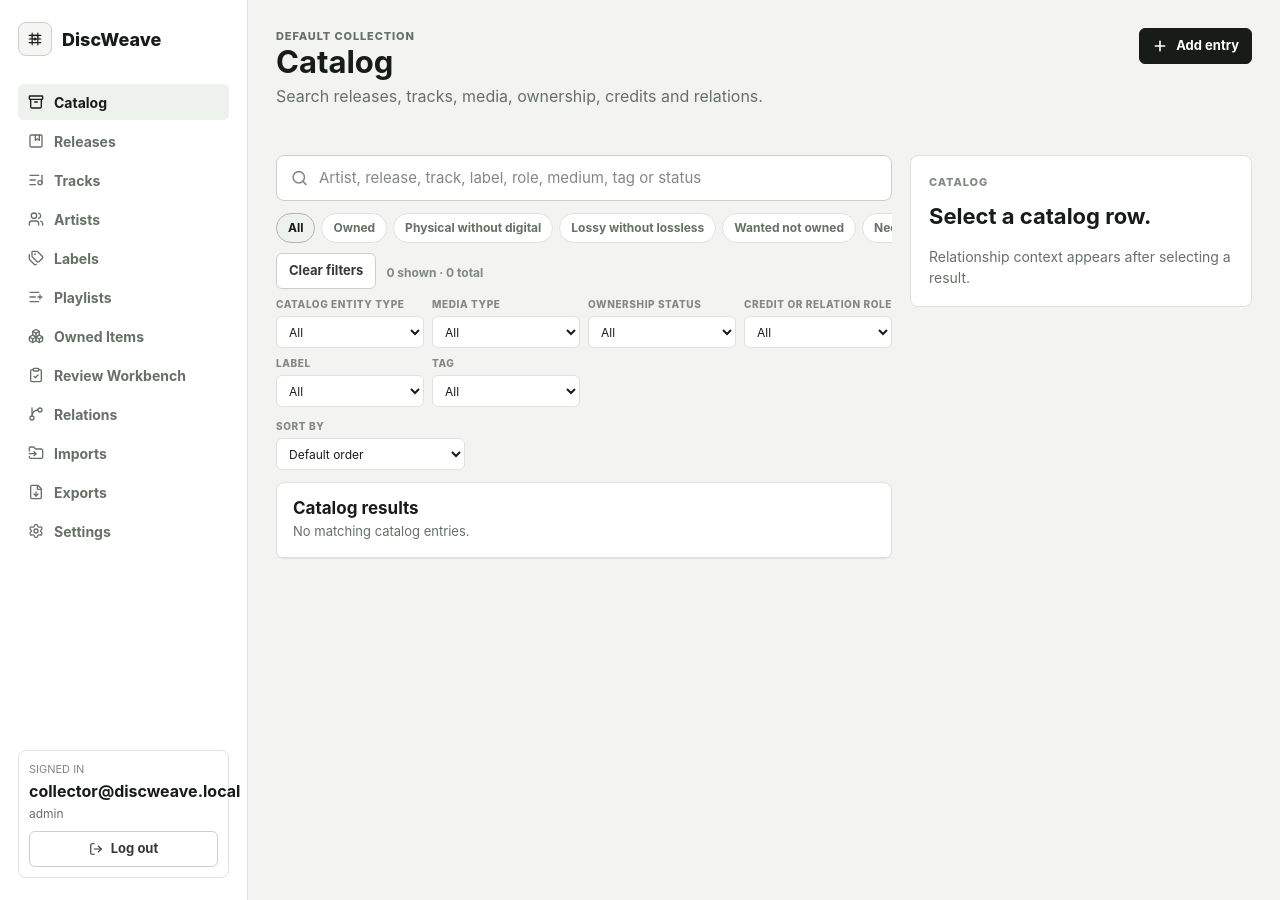
Test: App workspace navigation › hydrates the full catalog when navigating from catalog search into entity workspaces
Expected: the text "No matching catalog entries." is shown, [293, 522, 470, 542]
What coordinates should you click on to do the following:
click the link "Releases"
I would click on:
 (72, 141)
Its box is [28, 132, 116, 150].
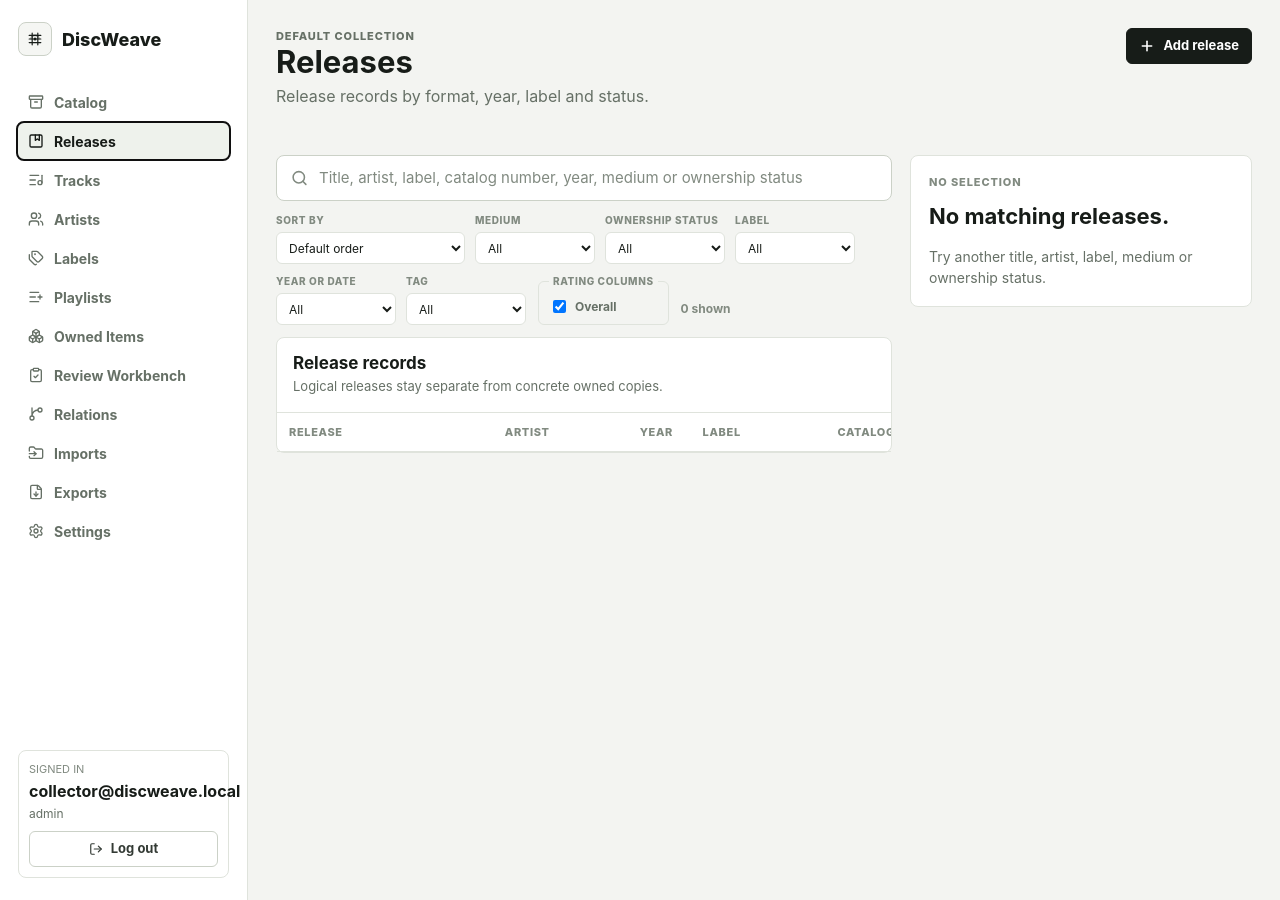
Now the heading "Release records" is shown, box [293, 353, 426, 373]
What coordinates should you click on to do the following:
click the link "Tracks"
I would click on:
 (64, 180)
Its box is [28, 172, 100, 188].
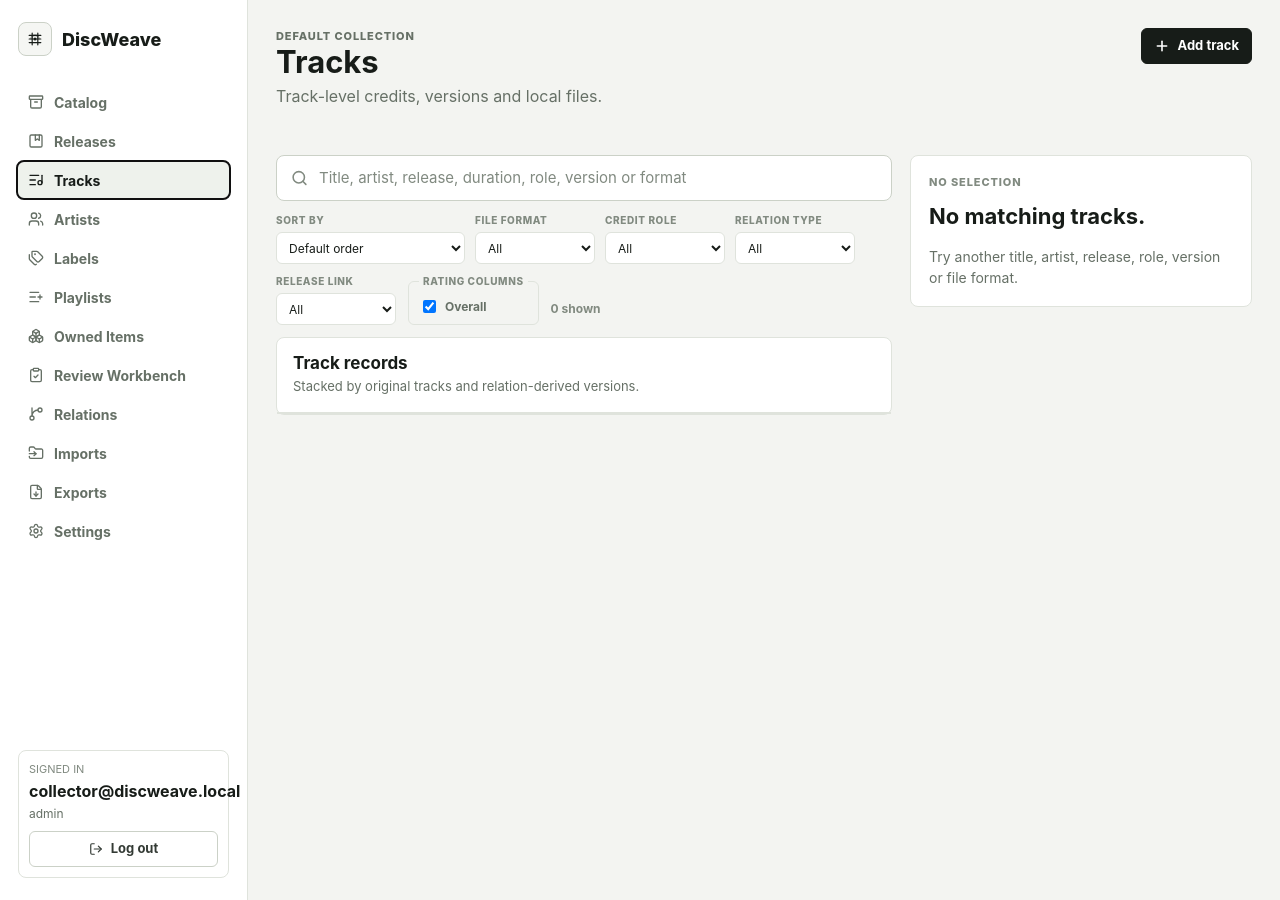
Now the heading "Track records" is shown, box [293, 353, 408, 373]
